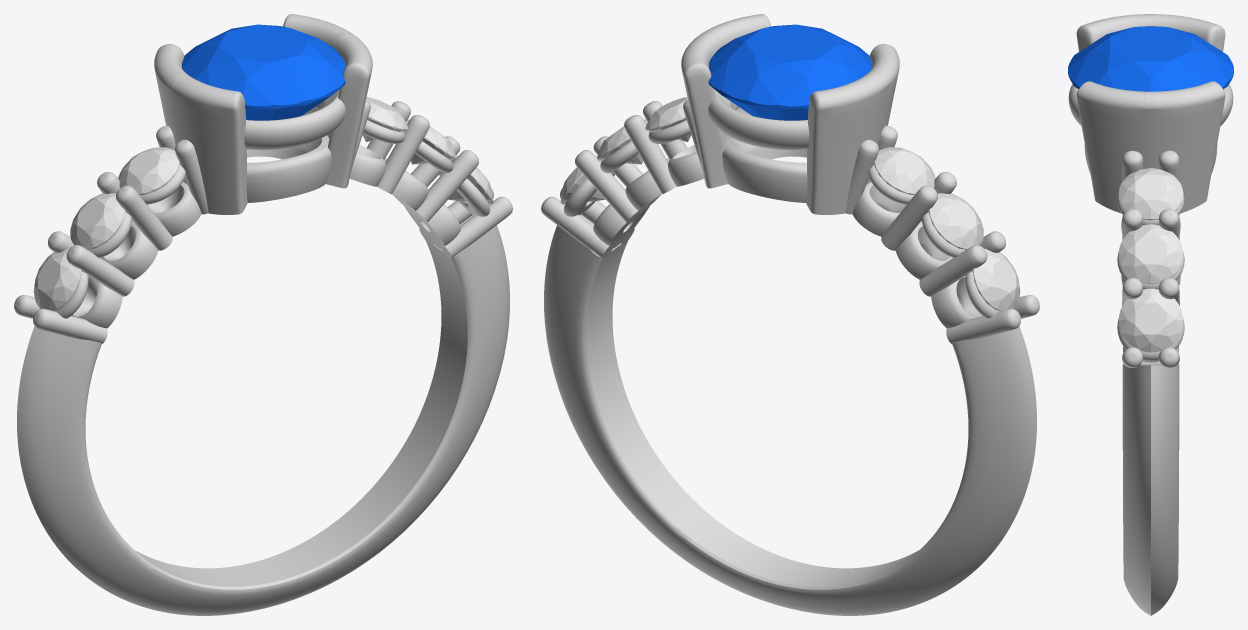
The model's file is bluesapphire-round-platinum-halfmoonbezel-knifeedge-3stone.glb.
3 renders of one model, left to right at view 1: azimuth 30°, elevation 25°; view 2: azimuth 150°, elevation 25°; view 3: azimuth 270°, elevation 25°, orthographic. The views are drawn at different scales.
Parts seen in each view (by area): view 1: metal, stone, side.001, side, side.002, side.003, side.004; view 2: metal, stone, side.001, side, side.002, side.003, side.004; view 3: metal, stone, side.005, side.004, side.003.
Part boxes in pixels (x1=…): metal: x1=14, y1=14, x2=512, y2=615; stone: x1=182, y1=24, x2=345, y2=120; side.001: x1=70, y1=193, x2=125, y2=249; side: x1=118, y1=147, x2=179, y2=195; side.002: x1=33, y1=248, x2=81, y2=311; side.003: x1=362, y1=97, x2=408, y2=141; side.004: x1=406, y1=119, x2=456, y2=164; metal: x1=541, y1=14, x2=1039, y2=615; stone: x1=708, y1=24, x2=871, y2=120; side.001: x1=928, y1=193, x2=983, y2=249; side: x1=874, y1=147, x2=935, y2=195; side.002: x1=972, y1=248, x2=1020, y2=311; side.003: x1=645, y1=97, x2=691, y2=141; side.004: x1=597, y1=119, x2=647, y2=164; metal: x1=1068, y1=14, x2=1233, y2=615; stone: x1=1068, y1=26, x2=1233, y2=91; side.005: x1=1118, y1=288, x2=1183, y2=352; side.004: x1=1118, y1=224, x2=1183, y2=284; side.003: x1=1118, y1=168, x2=1183, y2=220.
Bounding box in the file's own units: 21.3 × 23.31 × 6.44.
